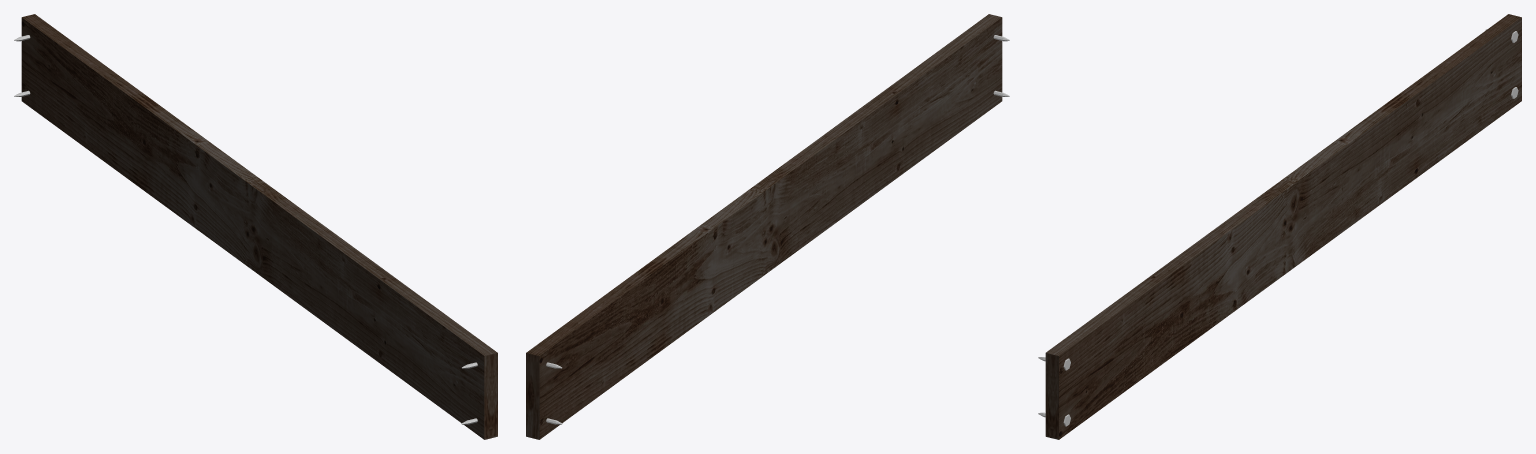
Rendered from Board.fbx.
3 views of the same model, side by side, from view 1: azimuth 30°, elevation 25°; view 2: azimuth 150°, elevation 25°; view 3: azimuth 330°, elevation 25° (orthographic).
Visible parts, largest first — view 1: BOARD.005; view 2: BOARD.005; view 3: BOARD.005.
Boxes of the visible parts, box(x1,y1,x2,y2) form: BOARD.005: box(21, 14, 497, 439); BOARD.005: box(526, 14, 1002, 439); BOARD.005: box(1045, 14, 1521, 439).
Bounding box in the file's own units: 22.1 × 60 × 600.
